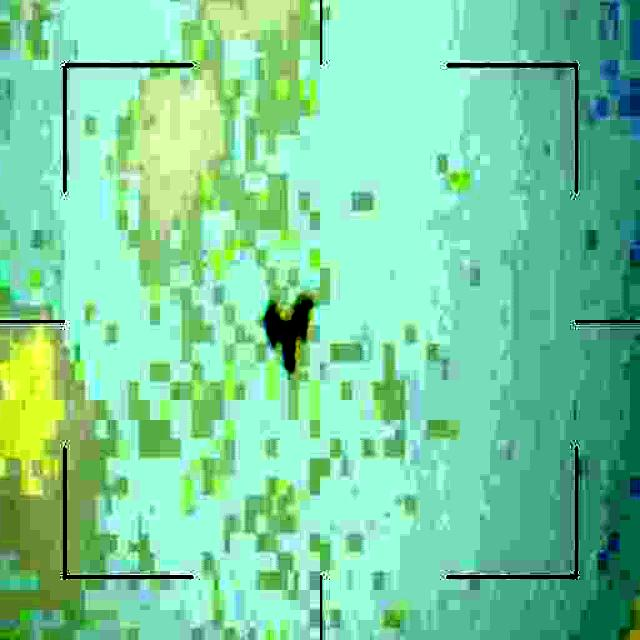bird: (261, 286, 319, 391)
